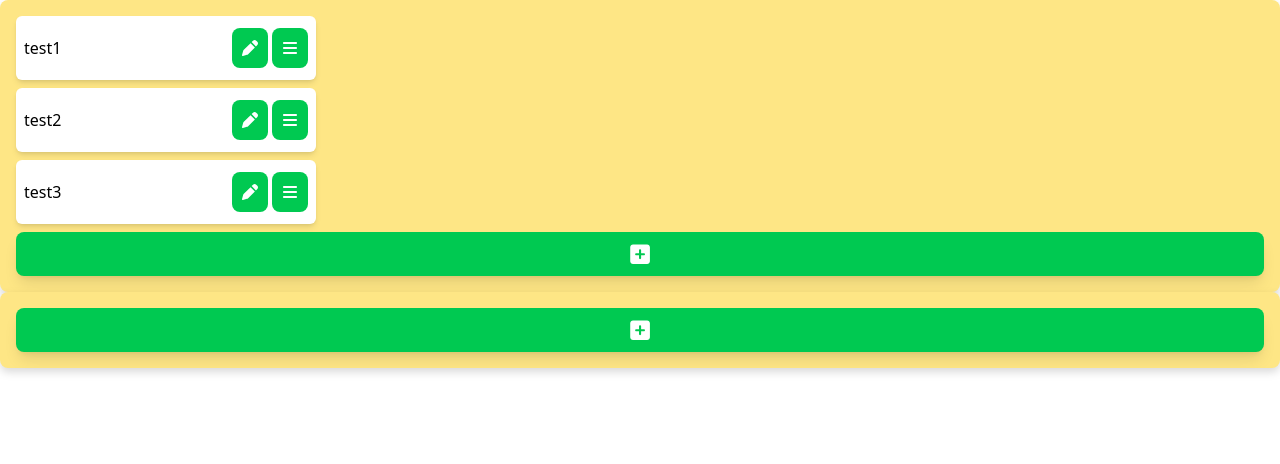
Scenario: Container › card addition
Click the 1st button named "add button" at (640, 254), box [16, 232, 1264, 276]
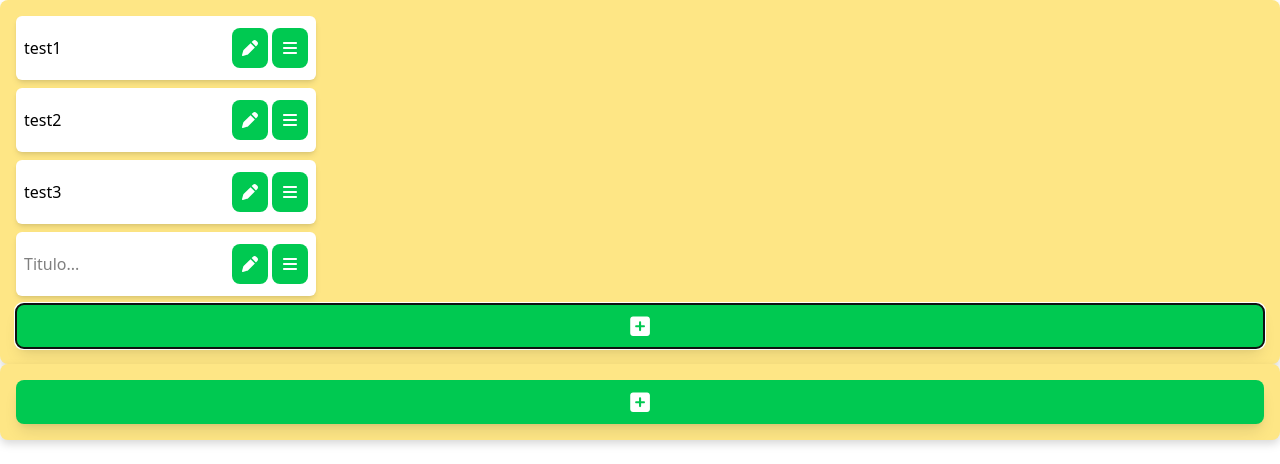
Result: the field with placeholder "Titulo..." is shown at [24, 244, 228, 284]
